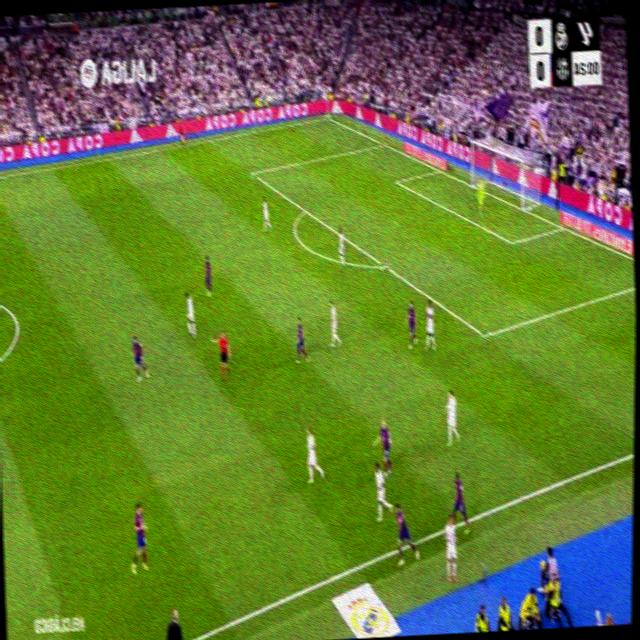bigarea_bottom_inner: (479, 323, 491, 346)
bigarea_top_inner: (249, 166, 257, 178)
bigarea_top_outter: (379, 138, 387, 148)
bottom_arc_area_intersection: (379, 258, 389, 274)
corner: (324, 112, 331, 120)
smallarea_bottom_inner: (507, 233, 517, 250)
smallarea_bottom_outter: (558, 220, 566, 233)
smallarea_top_inner: (394, 177, 400, 186)
top_arc_area_intersection: (300, 202, 309, 215)
